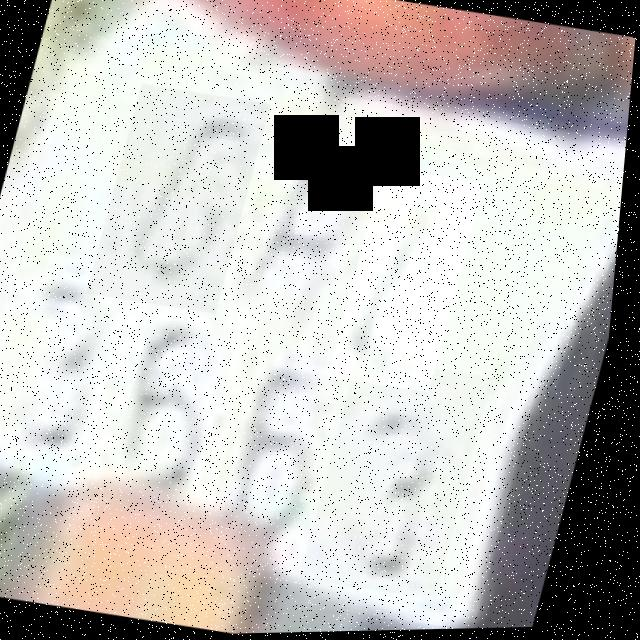3: (308, 355, 502, 603), (0, 247, 161, 483)
6: (80, 285, 272, 510)
J: (333, 167, 488, 396)
O: (90, 82, 274, 317)
